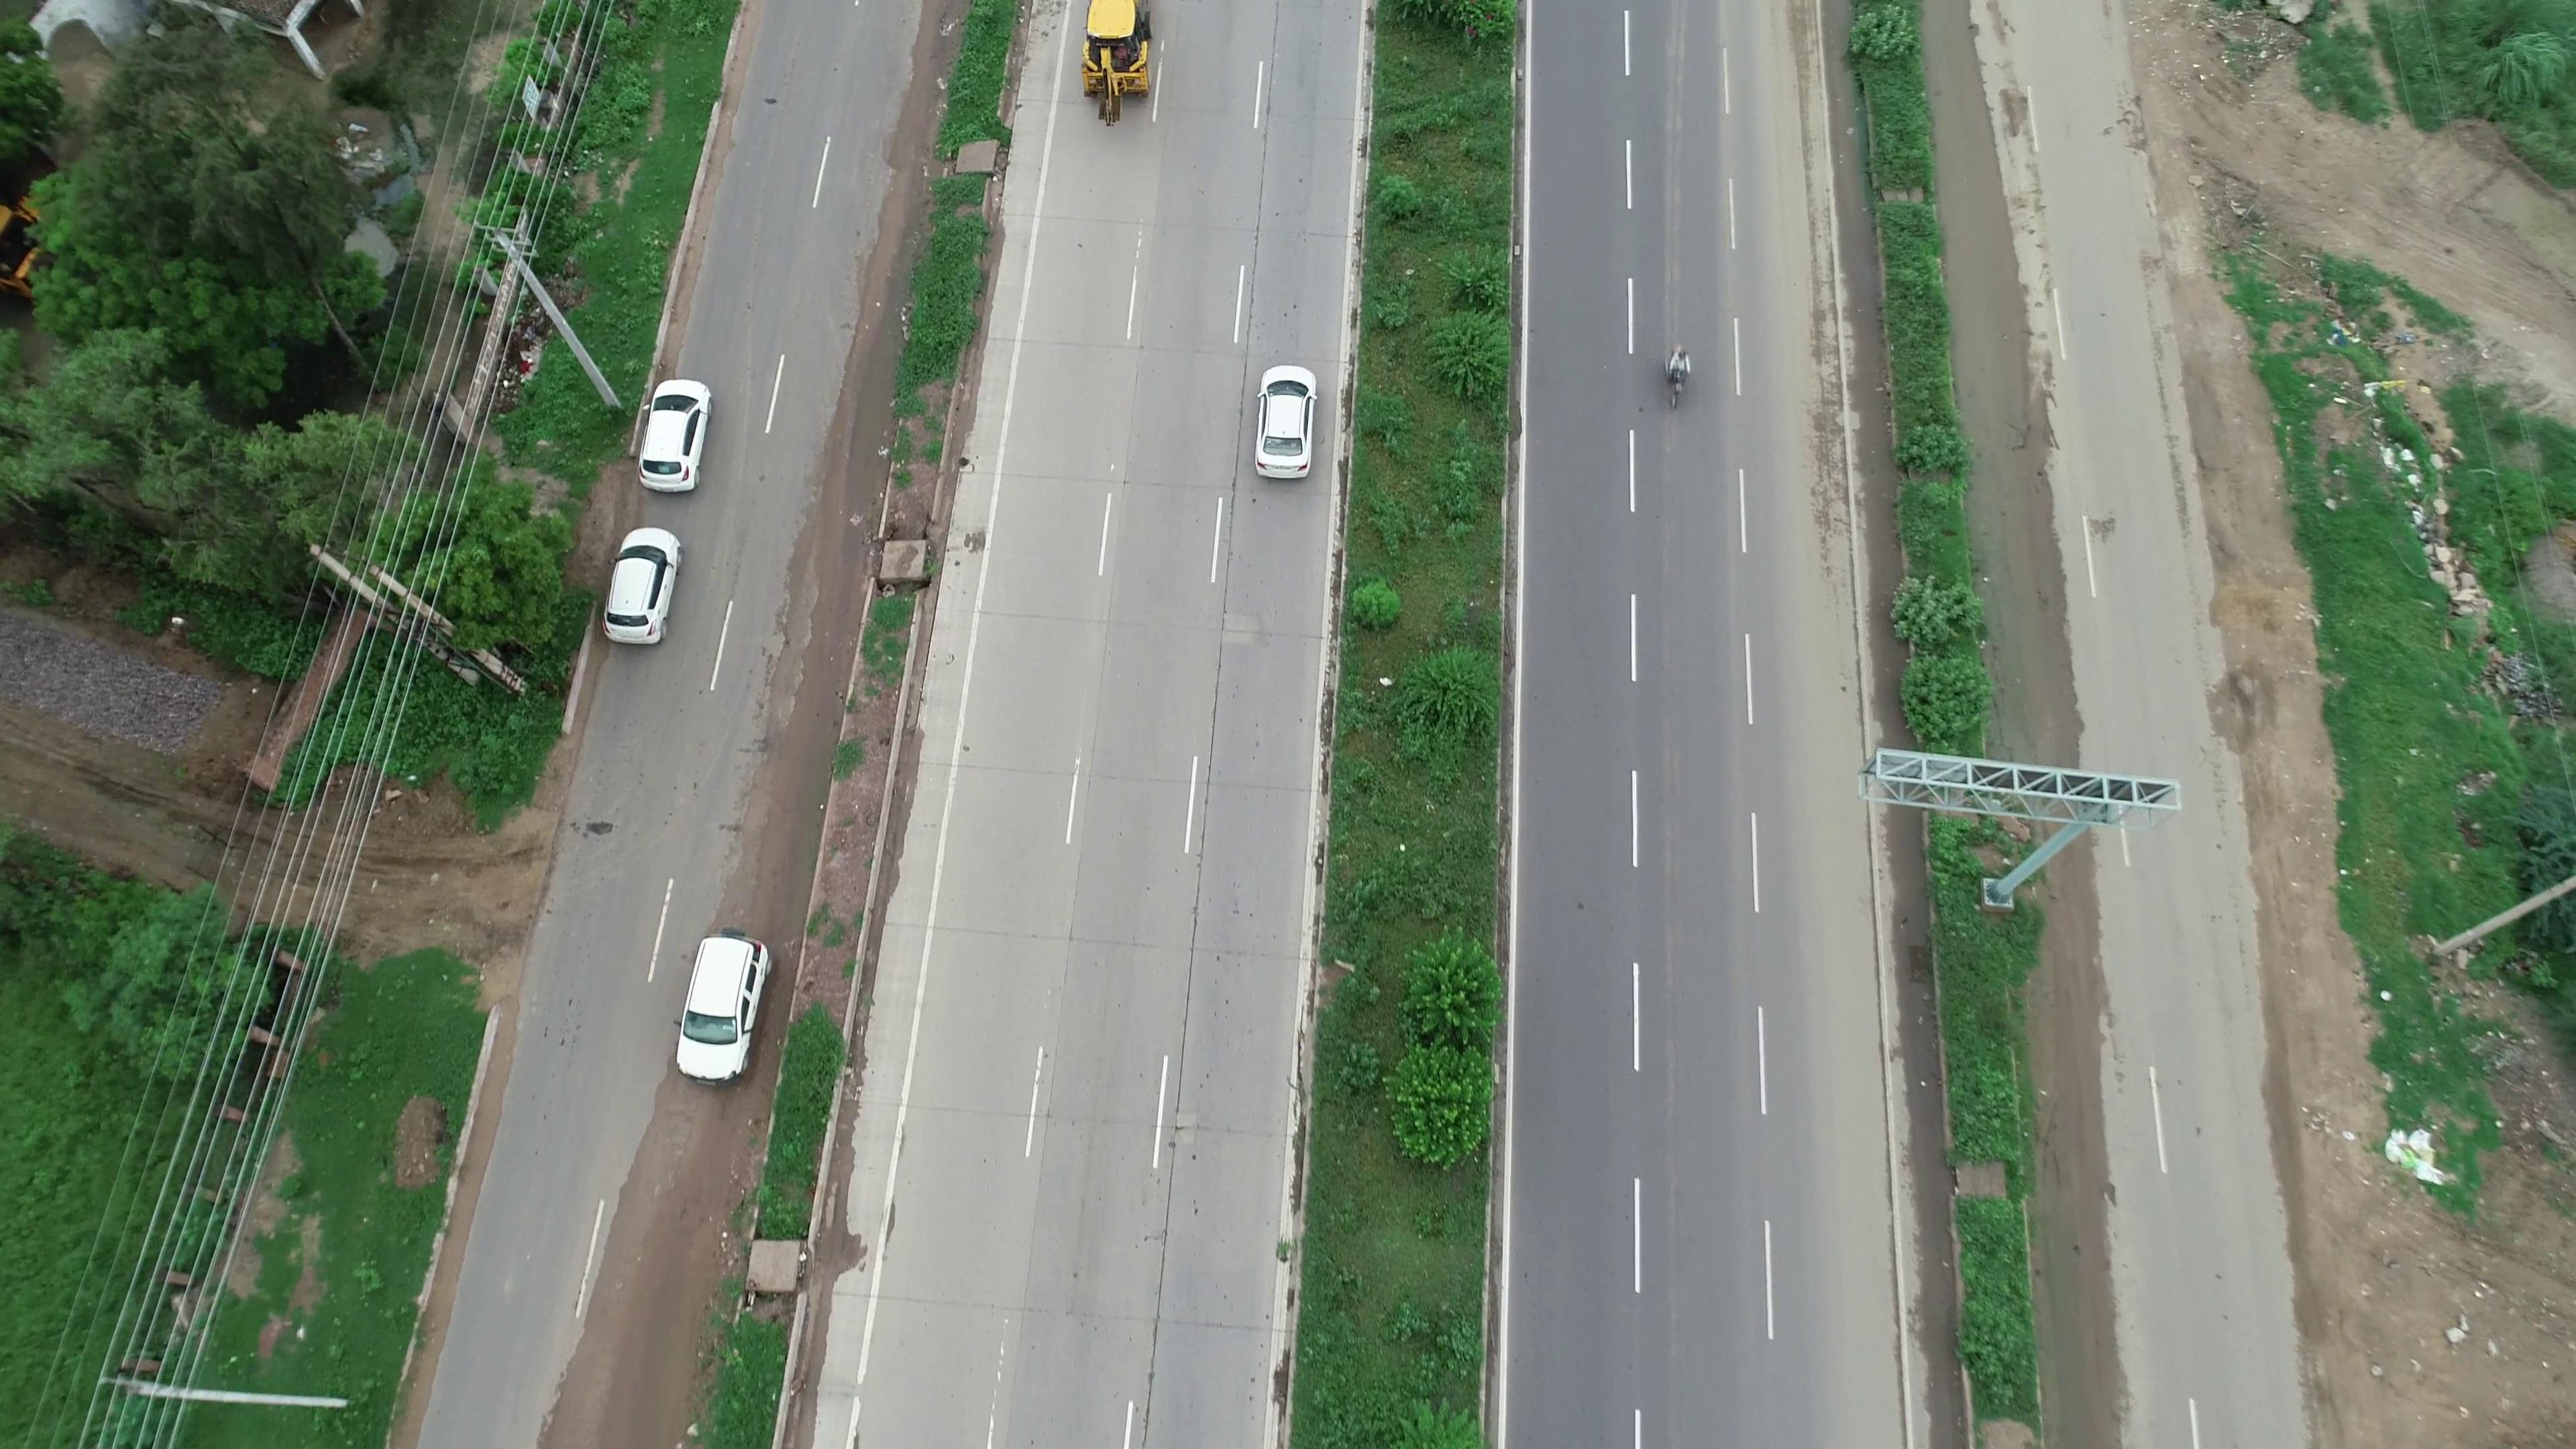Muddy_road: (524, 1141, 754, 1442), (1974, 419, 2118, 777), (1941, 92, 2072, 400), (2040, 1150, 2144, 1449), (709, 731, 824, 916)
